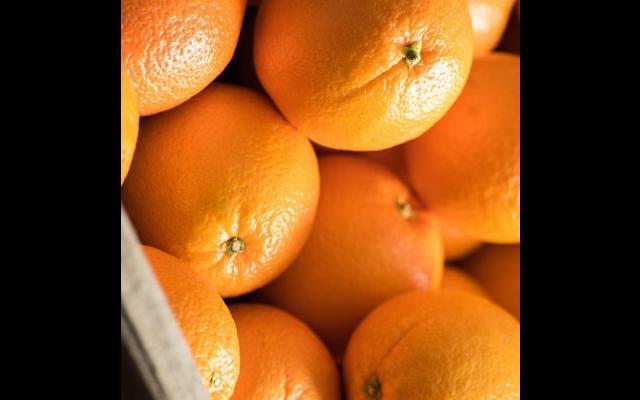Oranges: (130, 82, 320, 297), (255, 0, 470, 147), (285, 158, 445, 328), (342, 291, 519, 400), (221, 307, 344, 400)
